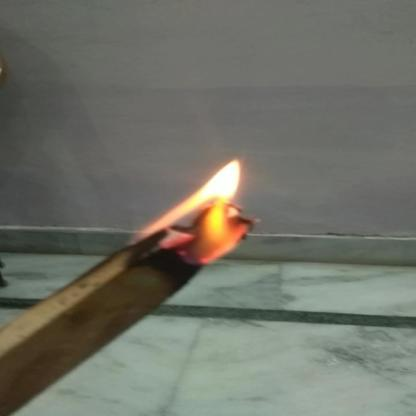fire: (140, 151, 274, 269)
